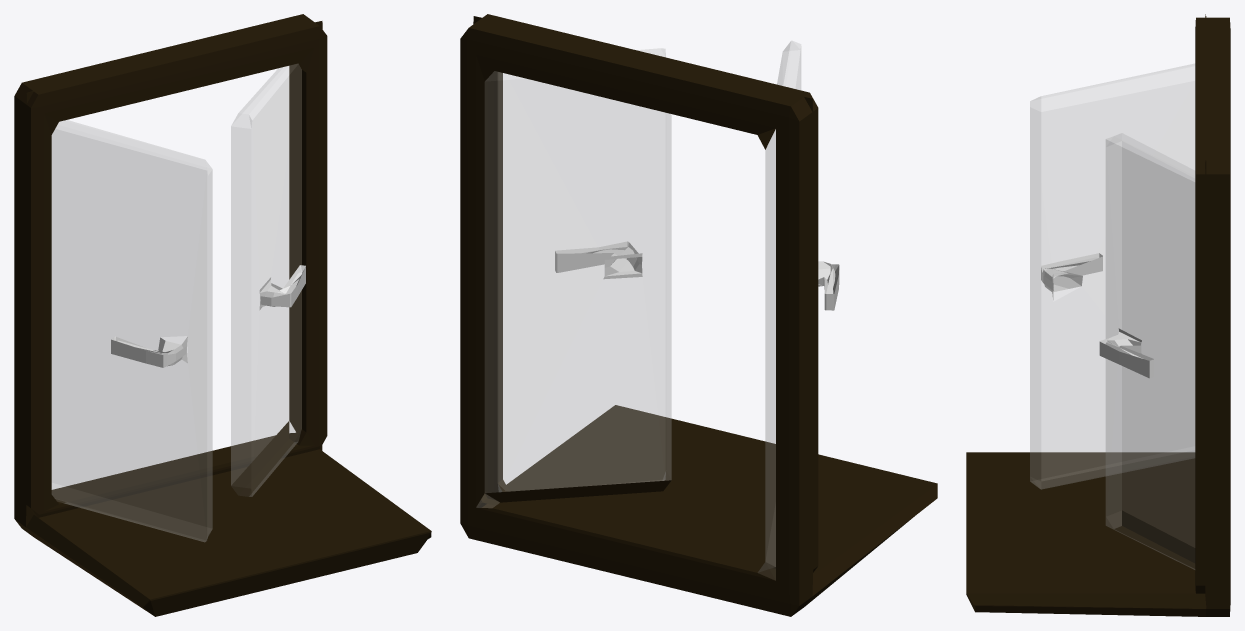
Rendered from F_OpenWindow.fbx.
The picture shows the model from 3 angles, left to right: view 1: azimuth 30°, elevation 25°; view 2: azimuth 150°, elevation 25°; view 3: azimuth 270°, elevation 25°; orthographic projection. The views are drawn at different scales.
Visible parts, largest first — view 1: F_OpenWindow; view 2: F_OpenWindow; view 3: F_OpenWindow.
Boxes of the visible parts, x1=… form: F_OpenWindow: x1=14, y1=14, x2=431, y2=616; F_OpenWindow: x1=460, y1=14, x2=937, y2=616; F_OpenWindow: x1=966, y1=14, x2=1230, y2=616.
Bounding box in the file's own units: 314 × 451 × 236.
